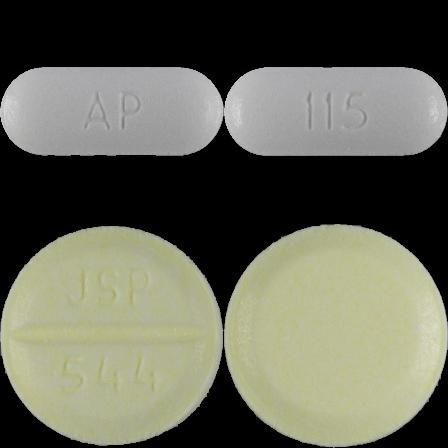50532-115: (0, 0, 224, 224)
